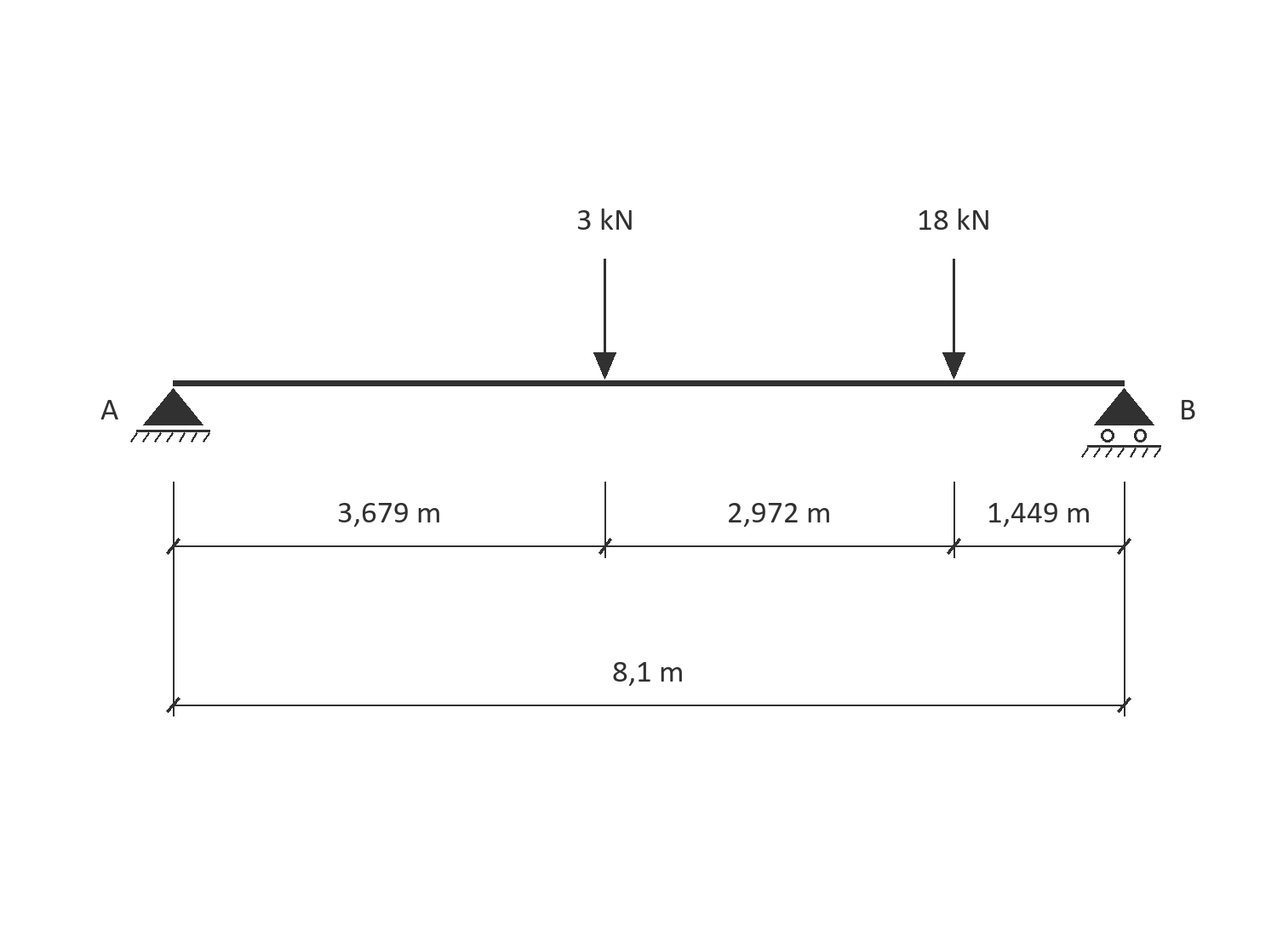pin_support: (130, 388, 210, 442)
point_load: (593, 259, 616, 380), (942, 259, 965, 380)
roller_support: (1081, 388, 1161, 458)
